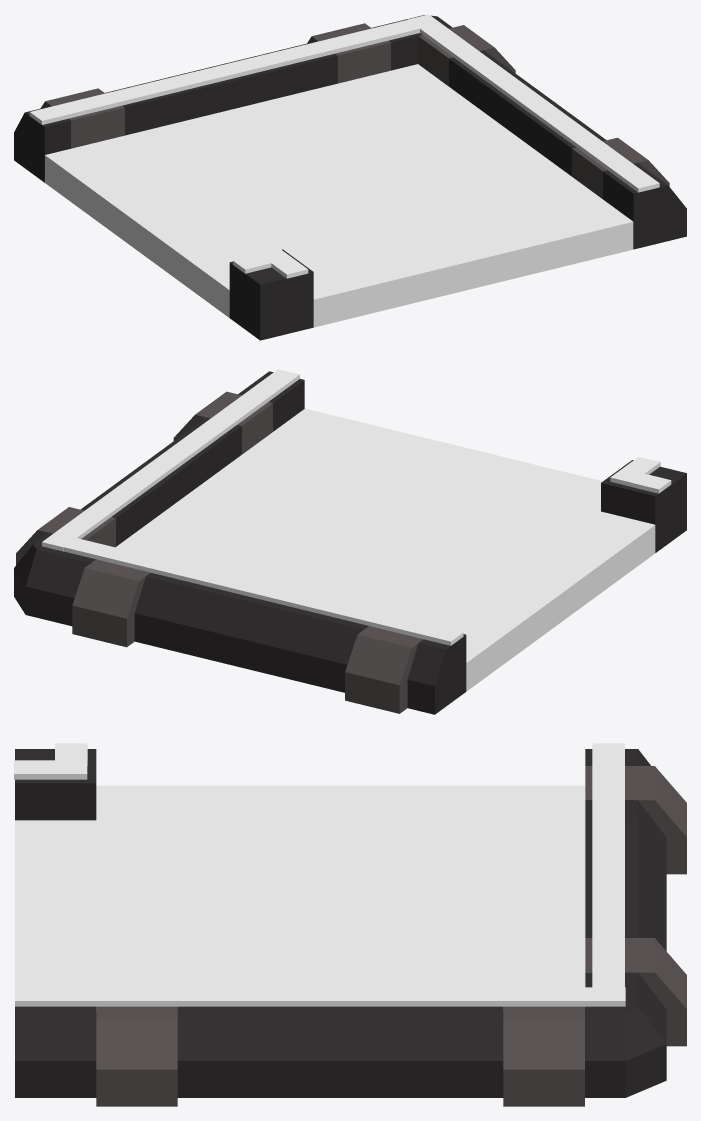
File: LeftCarbonConveyor.glb
3 renders of one model, top to bottom at view 1: azimuth 30°, elevation 25°; view 2: azimuth 150°, elevation 25°; view 3: azimuth 270°, elevation 25°, orthographic. The views are drawn at different scales.
Visible parts, largest first — view 1: cuboid (×3), Lights_selection; view 2: cuboid (×3), Lights_selection; view 3: cuboid (×3), Lights_selection.
Boxes of the visible parts, bbox=[...] form: cuboid (×3): bbox=[14, 15, 686, 340]; Lights_selection: bbox=[29, 14, 659, 278]; cuboid (×3): bbox=[14, 371, 686, 714]; Lights_selection: bbox=[42, 369, 671, 645]; cuboid (×3): bbox=[15, 749, 686, 1106]; Lights_selection: bbox=[14, 743, 625, 1006].
Size of the model in its own units: 1.03 by 0.1344 by 1.03.
3 materials, 1 textured.
